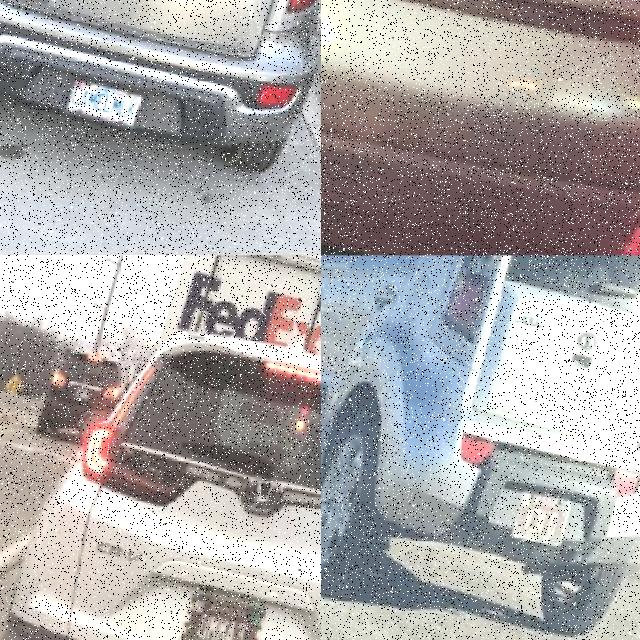licenseplate: (66, 75, 153, 133), (184, 593, 273, 640), (516, 488, 579, 548)
